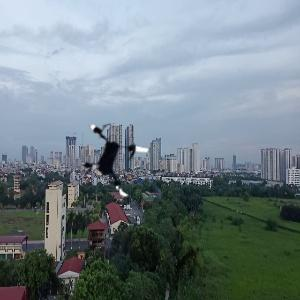drone: (76, 118, 160, 202)
